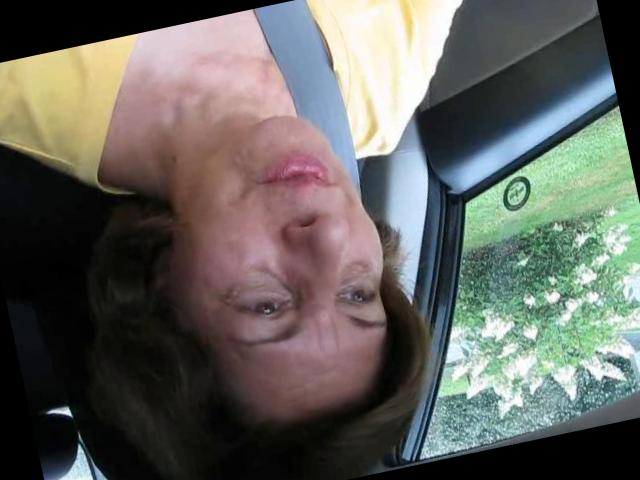eye_open: (227, 282, 297, 332), (332, 277, 381, 315)
face: (156, 96, 410, 394)
